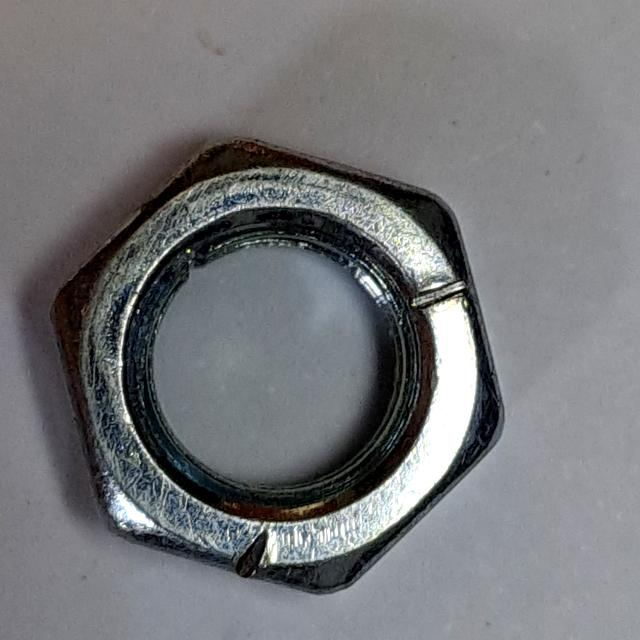Scratches: (36, 119, 530, 617)
